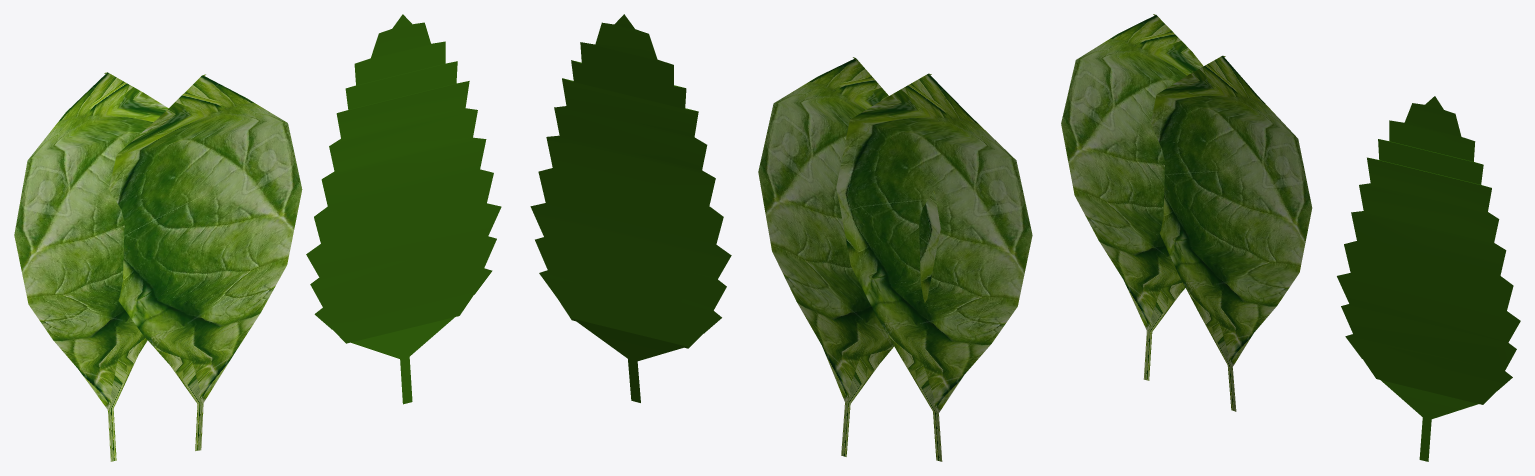
3 views of the same model, side by side, from view 1: azimuth 30°, elevation 25°; view 2: azimuth 150°, elevation 25°; view 3: azimuth 330°, elevation 25° (orthographic). The views are drawn at different scales.
Visible parts, largest first — view 1: Plane.004; view 2: Plane.004; view 3: Plane.004.
Boxes of the visible parts, x1,y1,x2,y2 form: Plane.004: [14, 14, 501, 461]; Plane.004: [530, 14, 1032, 461]; Plane.004: [1061, 14, 1520, 461].
Size of the model in its own units: 1.48 by 1.15 by 0.0848.
Materials: 2 (1 with a texture image).
